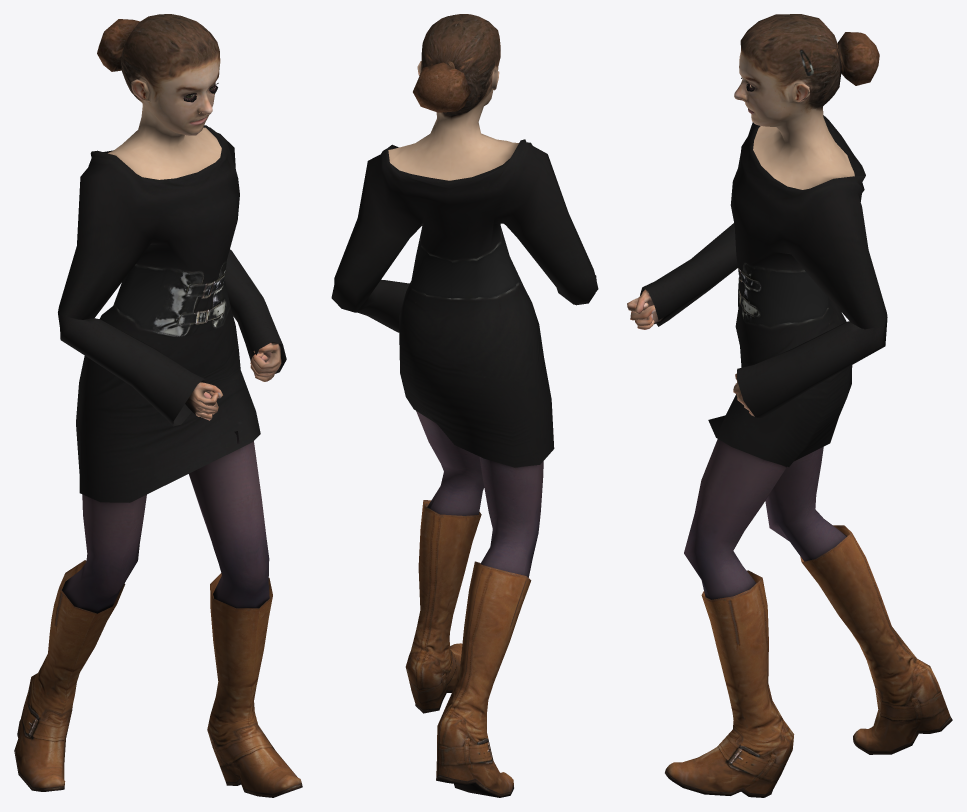
The model's file is Ana_Model_000022.obj.
The picture shows the model from 3 angles, left to right: view 1: azimuth 30°, elevation 25°; view 2: azimuth 150°, elevation 25°; view 3: azimuth 270°, elevation 25°; orthographic projection. The views are drawn at different scales.
Parts seen in each view (by area): view 1: Ana_Cube.004; view 2: Ana_Cube.004; view 3: Ana_Cube.004.
Boxes of the visible parts, x1,y1,x2,y2 form: Ana_Cube.004: (14, 14, 302, 797); Ana_Cube.004: (331, 14, 598, 797); Ana_Cube.004: (627, 14, 952, 797).
Size of the model in its own units: 0.5924 by 1.92 by 0.7365.
1 material, 1 textured.
